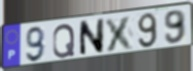9: (163, 8, 189, 46), (136, 12, 160, 50), (25, 25, 47, 64)
N: (78, 17, 106, 58)
Q: (52, 22, 76, 59)
X: (104, 14, 136, 53)
